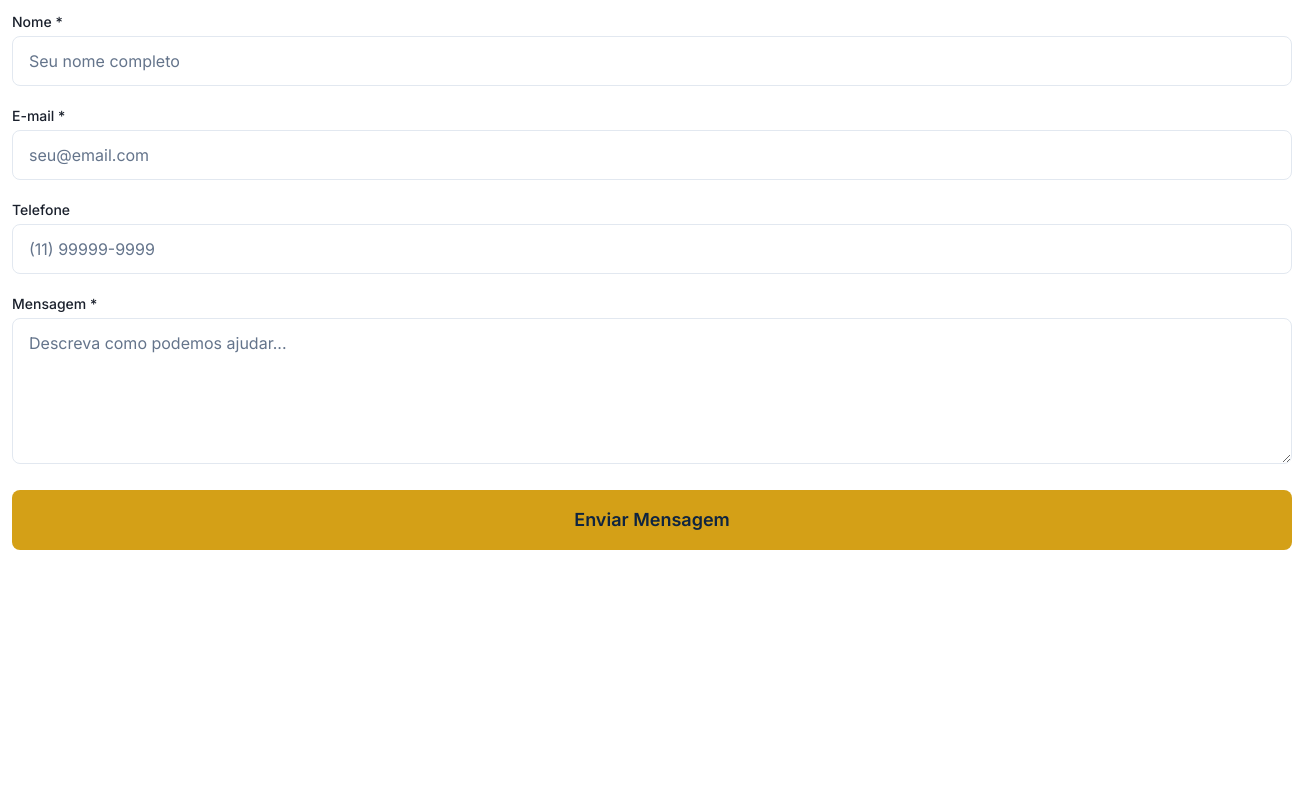
Test: ContactForm component › should validate email format
In the field labelled "Nome *": (652, 61) [12,36,1292,86], type "João"
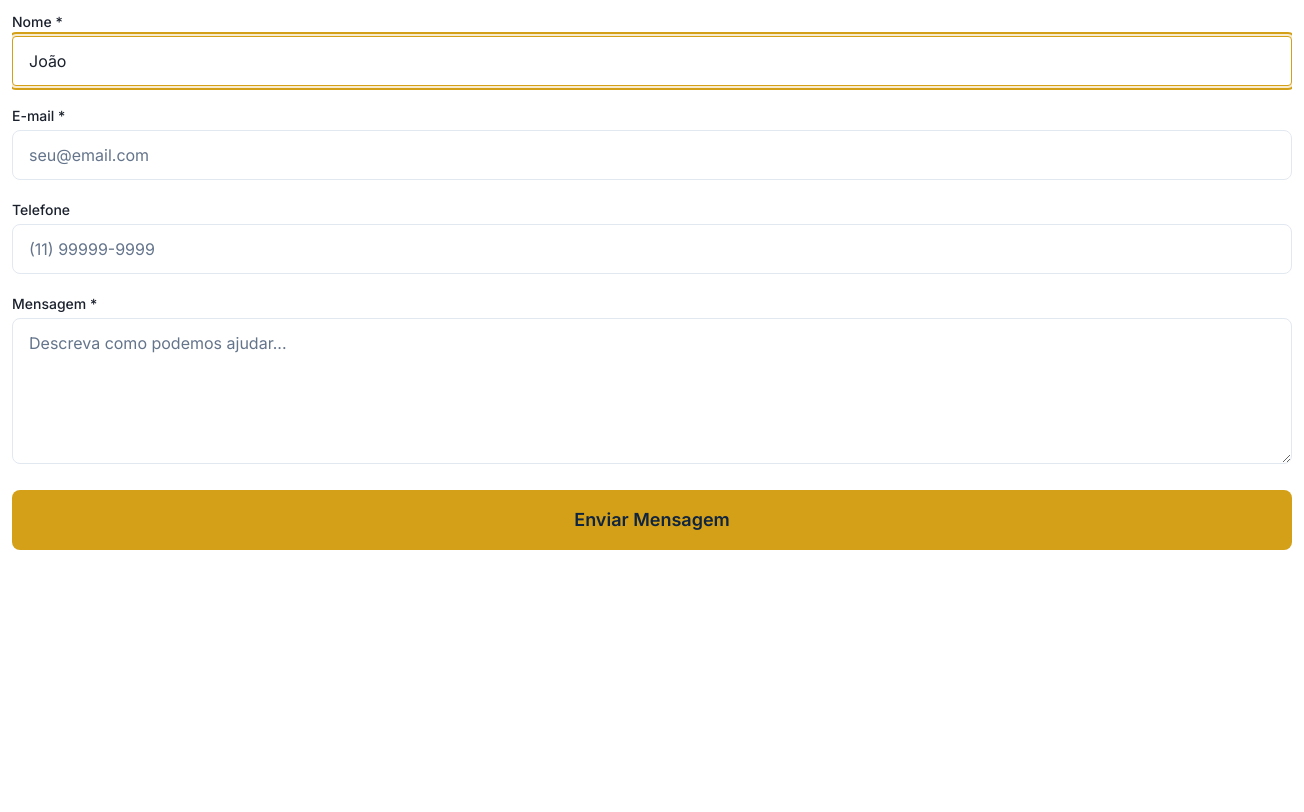
In the field labelled "E-mail *": (652, 155) [12,130,1292,180], type "invalid-email"
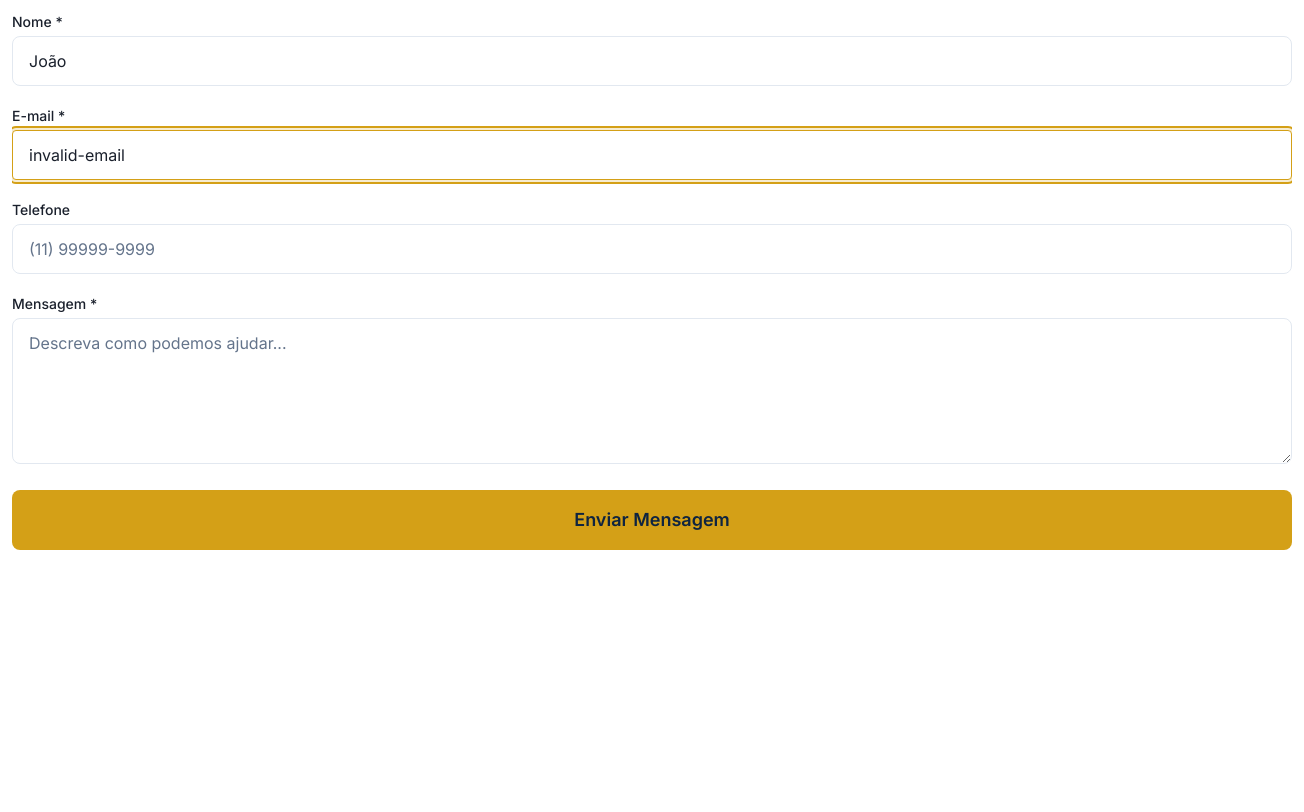
In the text box labelled "Mensagem *": (652, 391) [12,318,1292,464], type "Mensagem longa o suficiente"
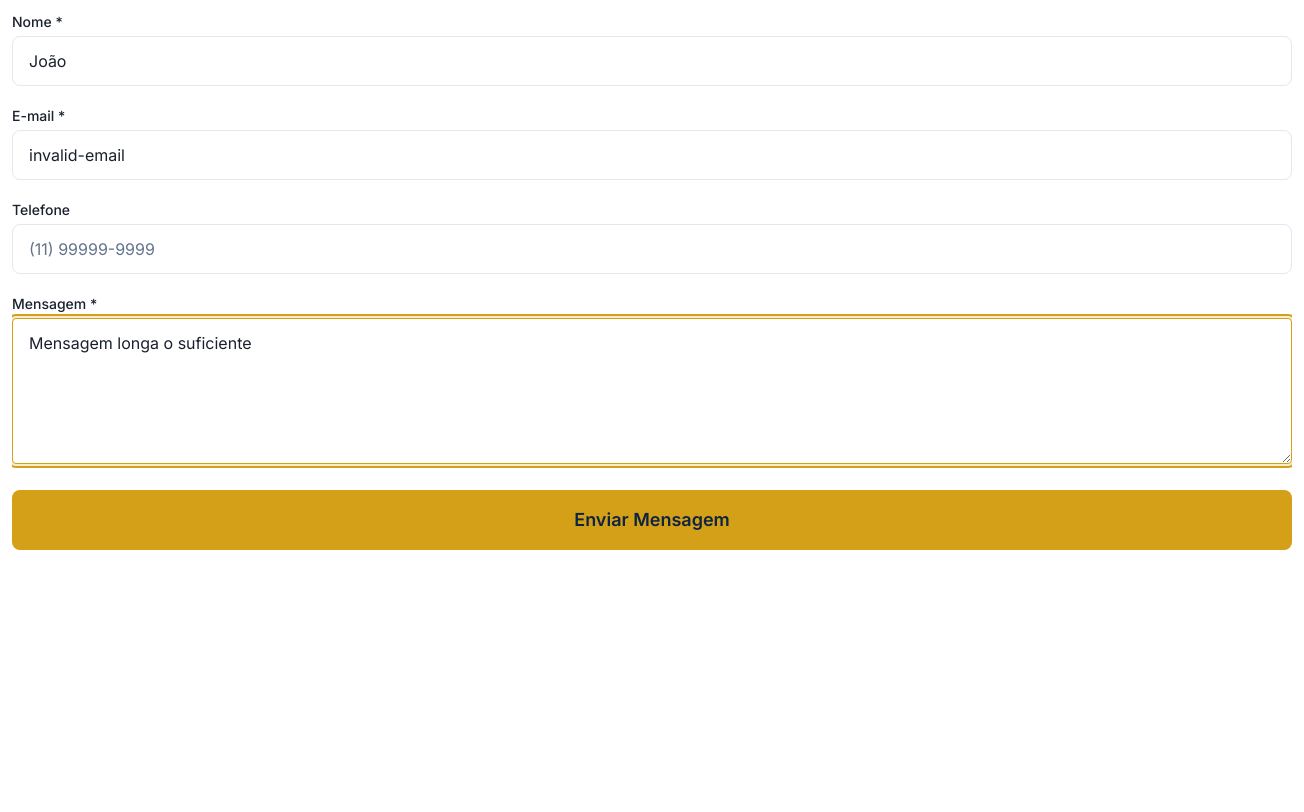
Click the button "Enviar Mensagem": (652, 520) [12,490,1292,550]
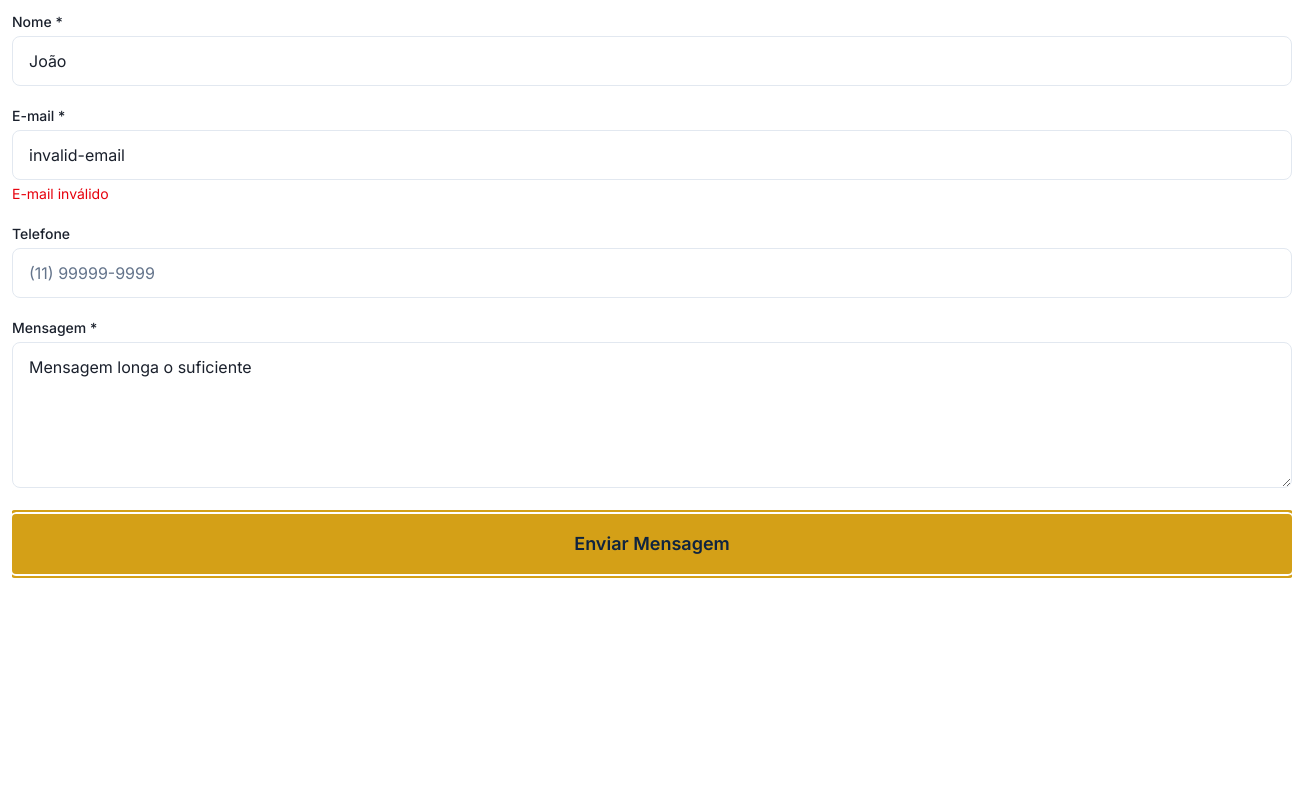
Expected: the text "E-mail inválido" is shown, [12,185,109,202]
